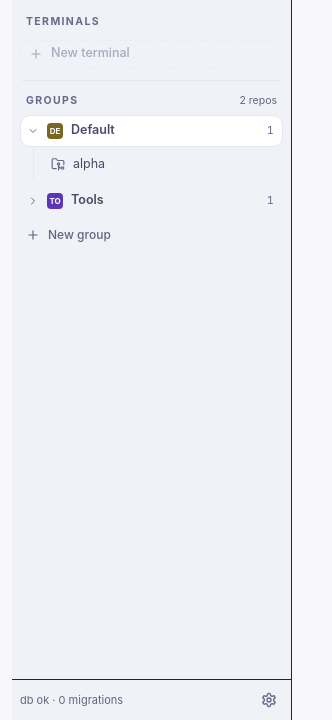
Test: Group context menu — Remove N missing (#317) › hides the entry when the group has no missing rows
Expected: the text "2 repos" is shown, left=240, top=93, right=277, bottom=109
Right-click the button "Tools": (165, 200) left=71, top=191, right=259, bottom=210
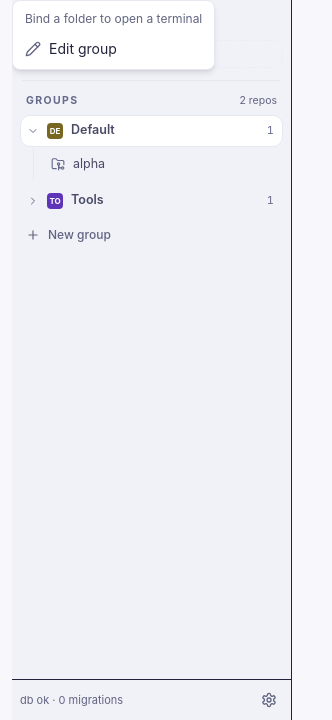
Expected: the menu item "Edit group" is shown, left=13, top=33, right=214, bottom=65
